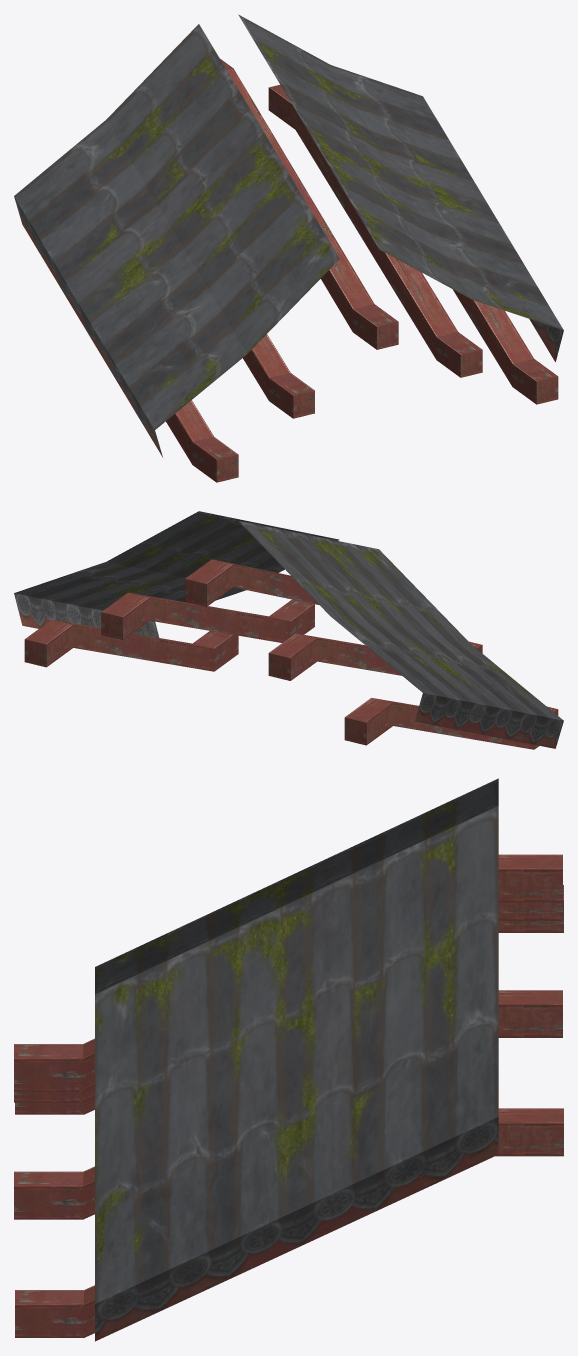
The model's file is b_zx_yuanmen02_02.FBX.
3 views of the same model, one above another, from view 1: azimuth 30°, elevation 25°; view 2: azimuth 150°, elevation 25°; view 3: azimuth 270°, elevation 25° (orthographic). The views are drawn at different scales.
Visible parts, largest first — view 1: b_zx_yuanmen02_02; view 2: b_zx_yuanmen02_02; view 3: b_zx_yuanmen02_02.
Boxes of the visible parts, x1,y1,x2,y2 form: b_zx_yuanmen02_02: (14, 14, 563, 482); b_zx_yuanmen02_02: (14, 511, 563, 749); b_zx_yuanmen02_02: (14, 778, 563, 1341).
Bounding box in the file's own units: 1.79 × 1.25 × 1.46.
